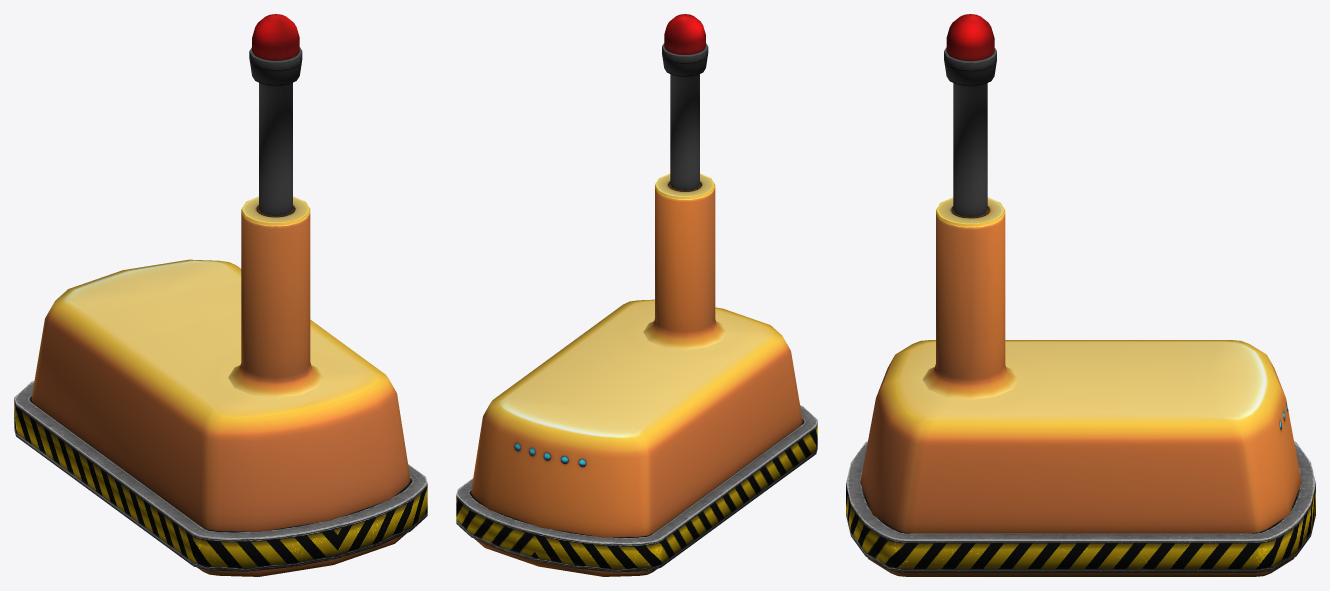
Rendered from robot.obj.
3 views of the same model, side by side, from view 1: azimuth 30°, elevation 25°; view 2: azimuth 150°, elevation 25°; view 3: azimuth 270°, elevation 25° (orthographic). The views are drawn at different scales.
Parts seen in each view (by area): view 1: Box002; view 2: Box002; view 3: Box002.
Boxes of the visible parts, left/top/right/bottom form: Box002: left=14, top=14, right=427, bottom=576; Box002: left=456, top=14, right=817, bottom=576; Box002: left=846, top=14, right=1315, bottom=576.
Bounding box in the file's own units: 0.6727 × 1.41 × 1.17.
1 material, 1 textured.
